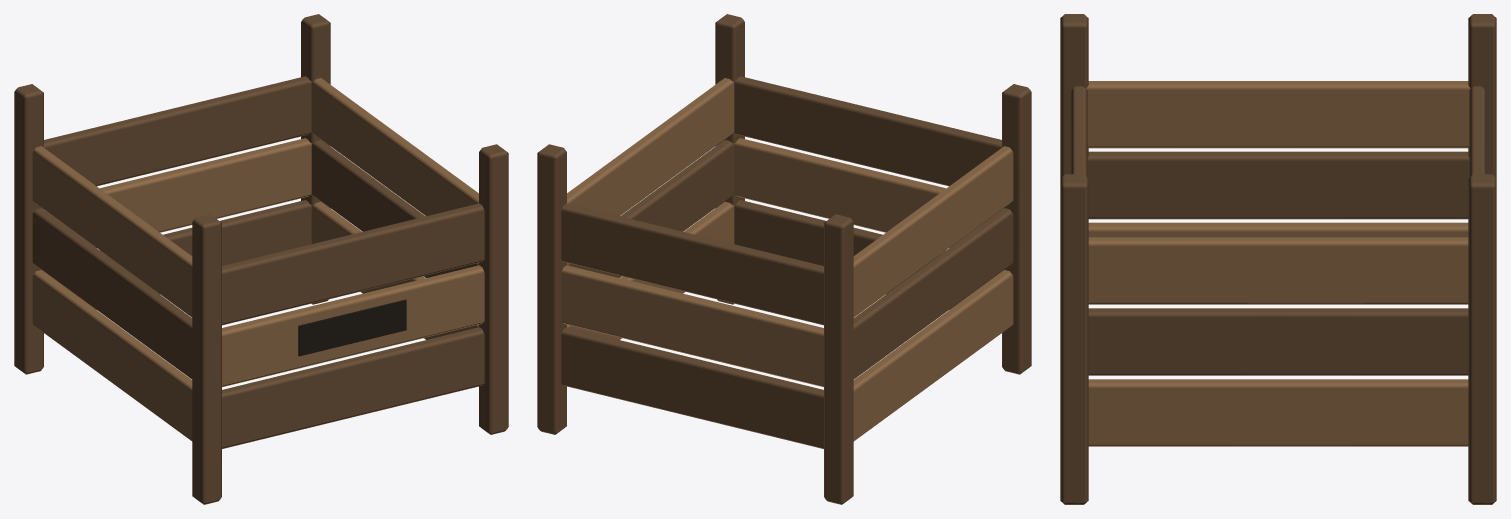
The model's file is HopperExt2.glb.
The picture shows the model from 3 angles, left to right: view 1: azimuth 30°, elevation 25°; view 2: azimuth 150°, elevation 25°; view 3: azimuth 270°, elevation 25°; orthographic projection. The views are drawn at different scales.
Visible parts, largest first — view 1: HopperExt2.001; view 2: HopperExt2.001; view 3: HopperExt2.001.
Boxes of the visible parts, x1,y1,x2,y2 form: HopperExt2.001: [14, 14, 508, 504]; HopperExt2.001: [537, 14, 1031, 504]; HopperExt2.001: [1060, 14, 1496, 504].
Size of the model in its own units: 0.86 by 0.75 by 0.92.
